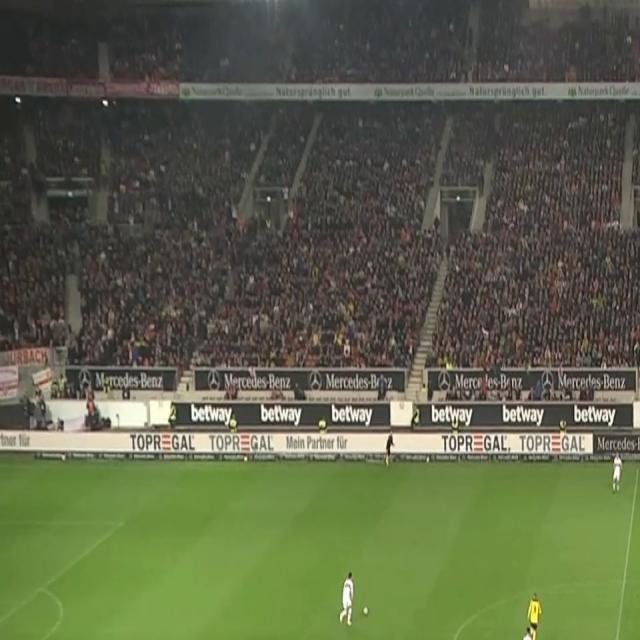ball: (362, 605, 369, 618)
